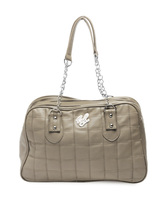bag: (18, 16, 151, 185)
